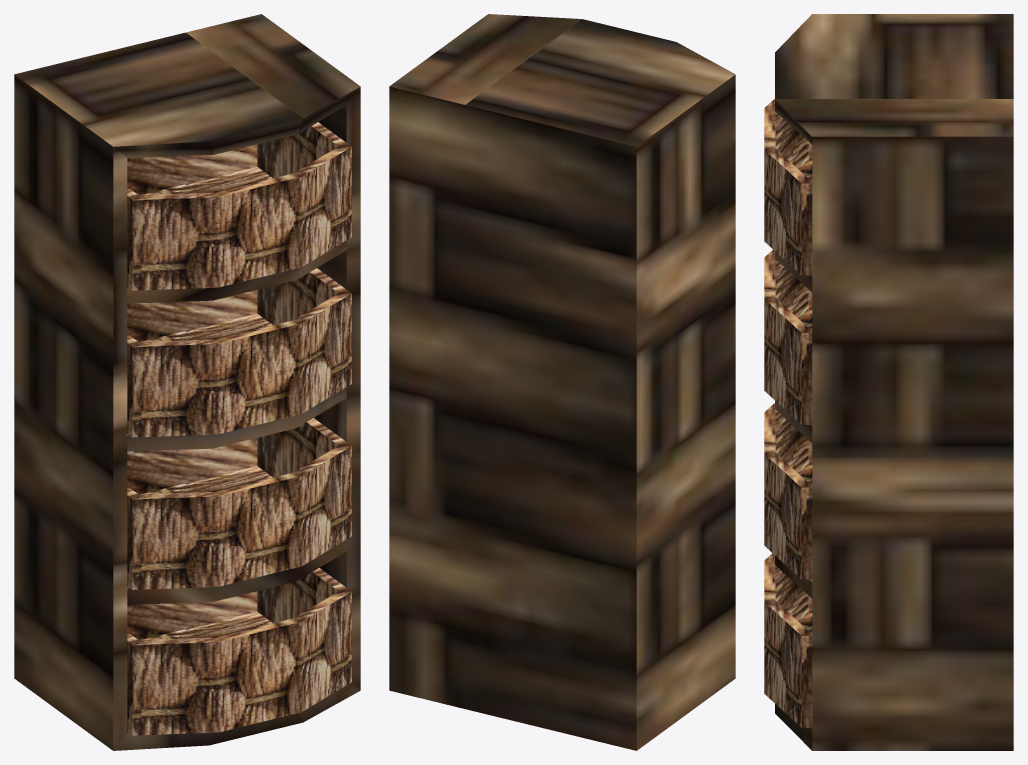
Rendered from toilet dressing.FBX.
3 renders of one model, left to right at view 1: azimuth 30°, elevation 25°; view 2: azimuth 150°, elevation 25°; view 3: azimuth 270°, elevation 25°, orthographic.
Parts seen in each view (by area): view 1: Box001, Object001, Object002, Object003, Object004; view 2: Box001; view 3: Box001, Object001, Object002, Object003, Object004.
Boxes of the visible parts, left/top/right/bottom form: Box001: left=14, top=14, right=360, bottom=750; Object001: left=127, top=418, right=351, bottom=589; Object002: left=127, top=268, right=351, bottom=437; Object003: left=127, top=122, right=351, bottom=290; Object004: left=127, top=568, right=351, bottom=735; Box001: left=389, top=14, right=735, bottom=750; Box001: left=775, top=14, right=1013, bottom=750; Object001: left=764, top=403, right=812, bottom=579; Object002: left=764, top=250, right=812, bottom=424; Object003: left=764, top=99, right=812, bottom=275; Object004: left=764, top=553, right=812, bottom=727.
Size of the model in its own units: 70.59 by 165 by 60.59.
2 materials, 2 textured.
